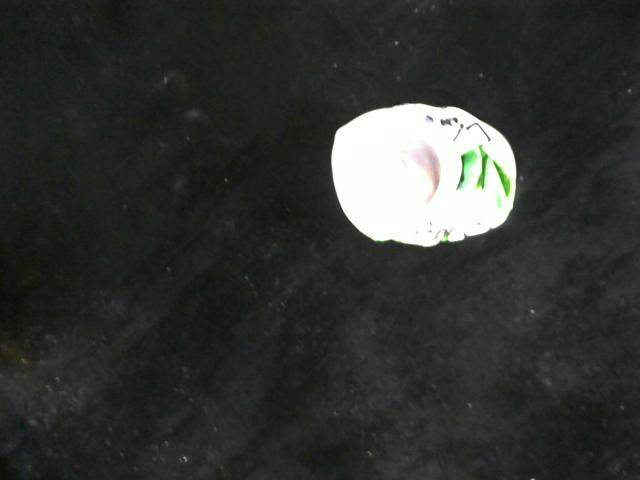can: (319, 100, 522, 247)
